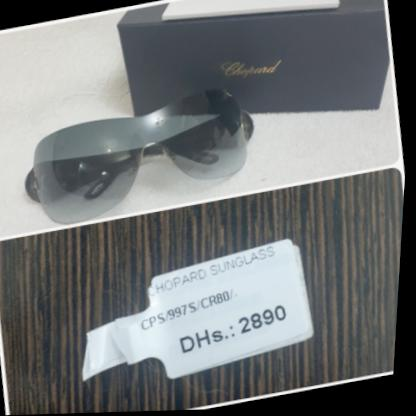Spectacles: (16, 85, 271, 233)
